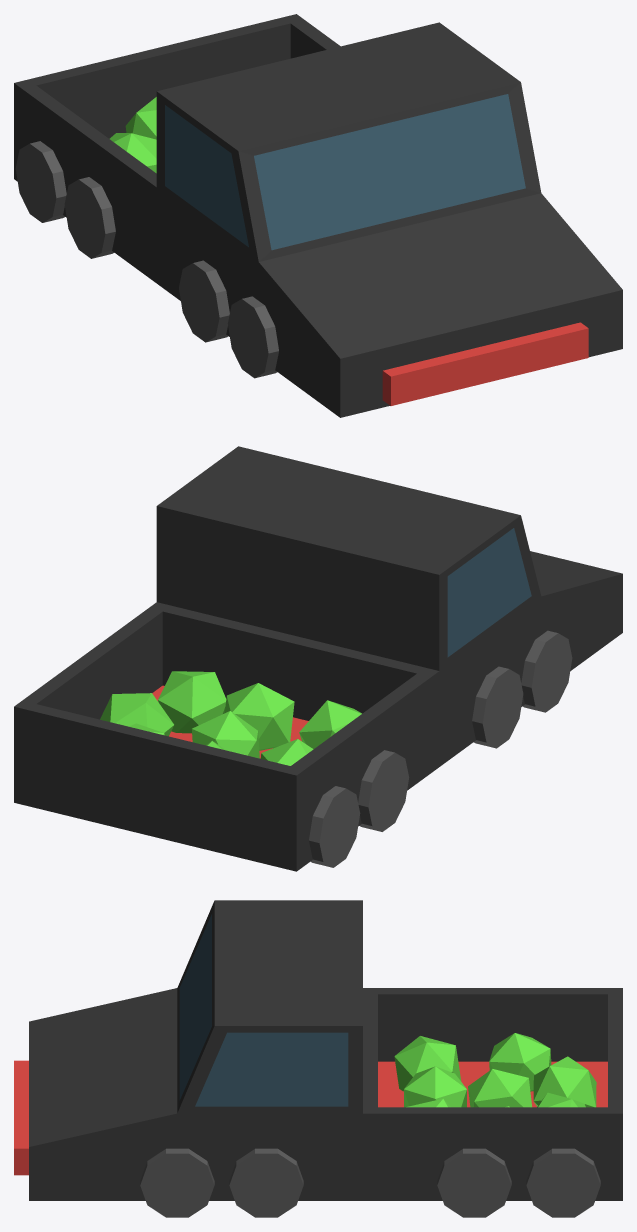
File: 3D_Printer_TD_5_Car.fbx
3 views of the same model, one above another, from view 1: azimuth 30°, elevation 25°; view 2: azimuth 150°, elevation 25°; view 3: azimuth 270°, elevation 25° (orthographic). The views are drawn at different scales.
Parts seen in each view (by area): view 1: Cube.039; view 2: Cube.039; view 3: Cube.039.
Boxes of the visible parts, x1,y1,x2,y2 form: Cube.039: [14, 14, 622, 417]; Cube.039: [14, 446, 622, 871]; Cube.039: [14, 900, 622, 1217].
Size of the model in its own units: 430 by 278 by 820.
